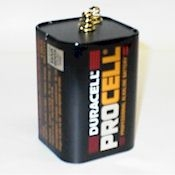6V: (32, 8, 138, 165)
